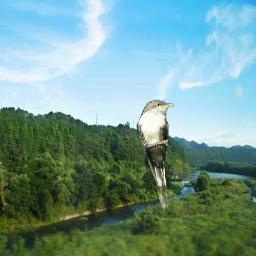Cuckoo: (138, 99, 174, 211)
